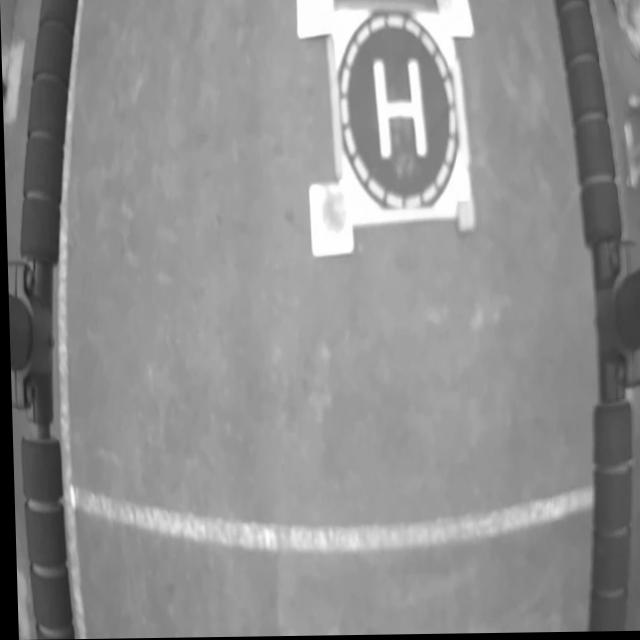Helipad: (373, 58, 429, 165)
